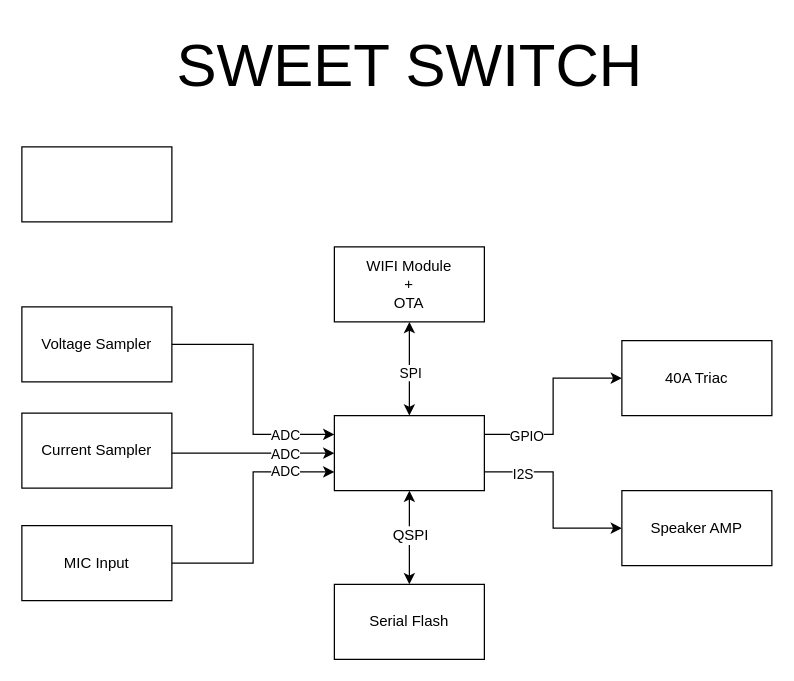
Image size: 794x681. Some labels were removed from this diagram. Here are the shapes that lost their labels. From the top down, the centre of each, then its label:
At [96,184]: "Transformerless AC-DC Converter +3.3V".
At [408,452]: "RP2040 + RTC".
